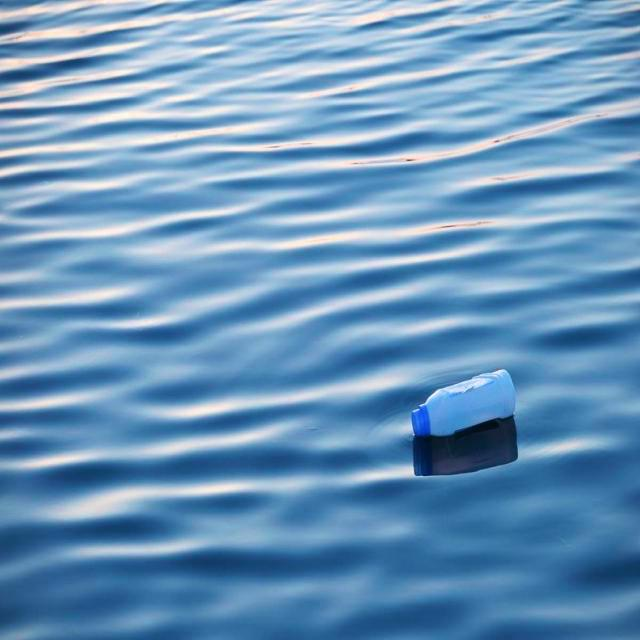Plastic: (408, 366, 518, 443)
